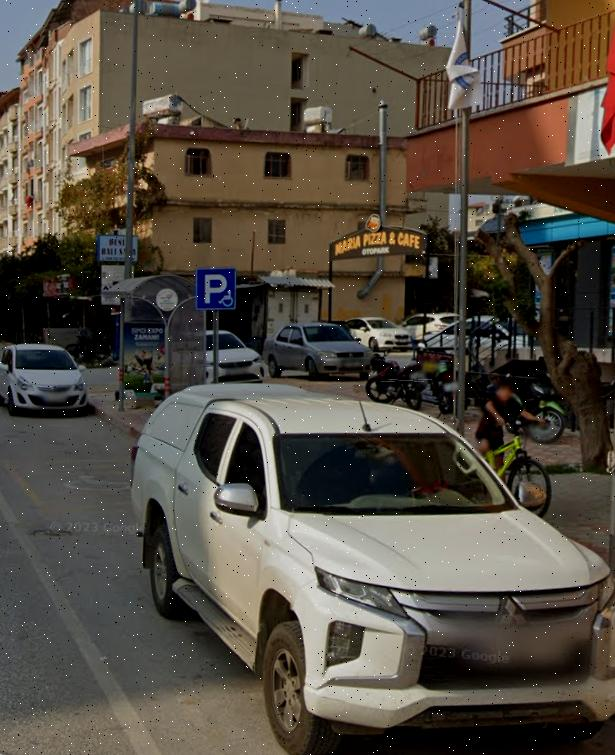disabledpark: (198, 270, 236, 310)
